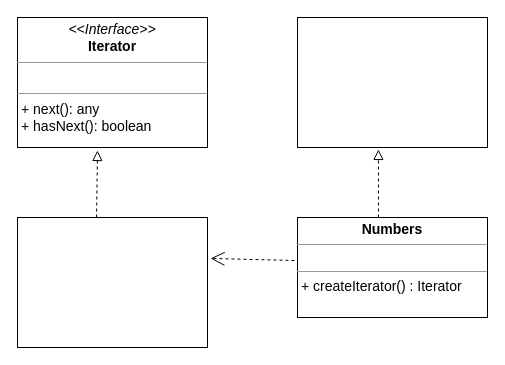
Some shapes in this 505 by 365 pixel diagram are drawn without their labels. Each missing label, with the centre of its shape:
"<<Interface>> Aggregato + createIterator() : Iterator" goes at pixel 392 82.
"ConcreteIterator + next(): any + hasNext(): boolean" goes at pixel 112 282.
